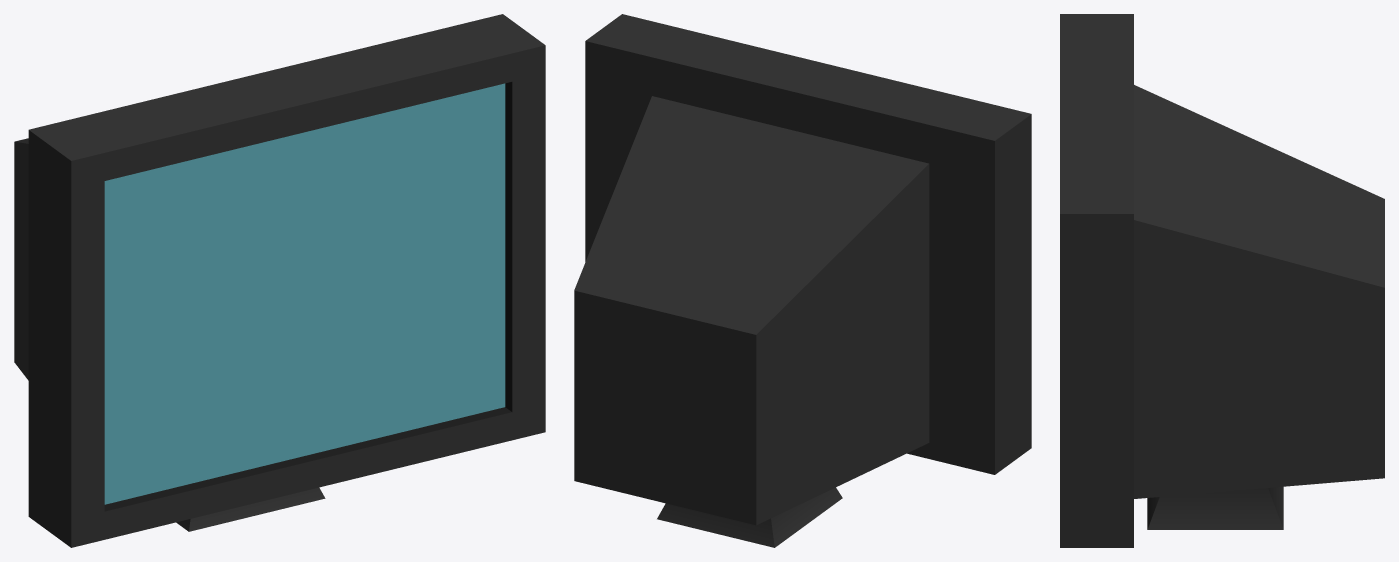
Rendered from pc_monitor.fbx.
The picture shows the model from 3 angles, left to right: view 1: azimuth 30°, elevation 25°; view 2: azimuth 150°, elevation 25°; view 3: azimuth 270°, elevation 25°; orthographic projection. The views are drawn at different scales.
Parts seen in each view (by area): view 1: pCube27; view 2: pCube27; view 3: pCube27.
Boxes of the visible parts, x1,y1,x2,y2 form: pCube27: (14,14,545,547); pCube27: (574,14,1031,547); pCube27: (1060,14,1384,547).
Bounding box in the file's own units: 3.86e-05 × 3.49e-05 × 2.65e-05.
